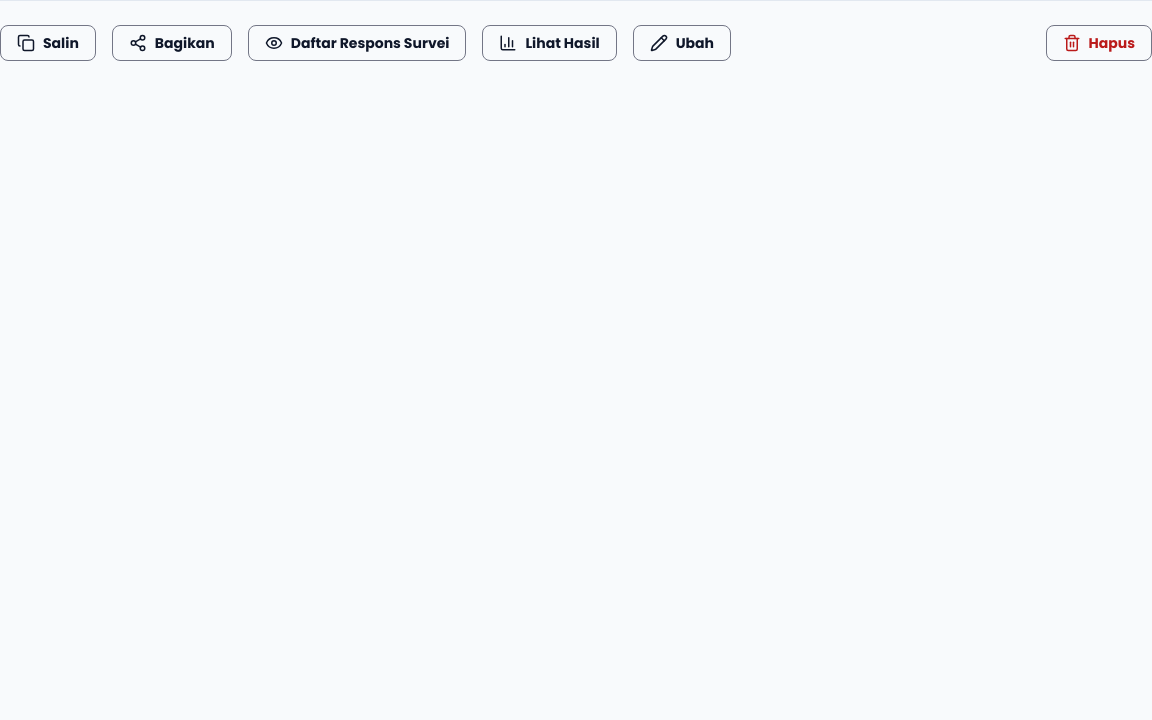
Test: AdminSurveyCardActions — survei terbit › Hapus pada survei terbit menjelaskan bahwa surveinya masuk Sampah, bukan hilang
Click the button "Hapus": (1099, 43) [1046,25,1151,61]
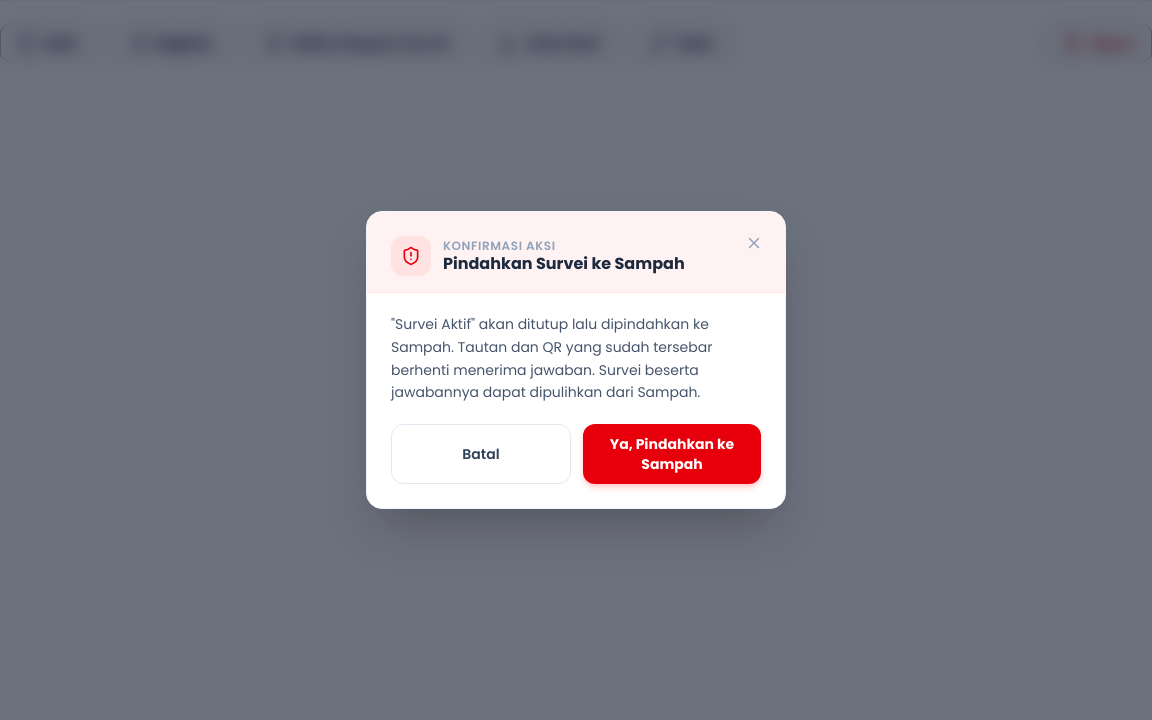
Now the text "berhenti menerima jawaban" is shown, box [391,314,712,402]
